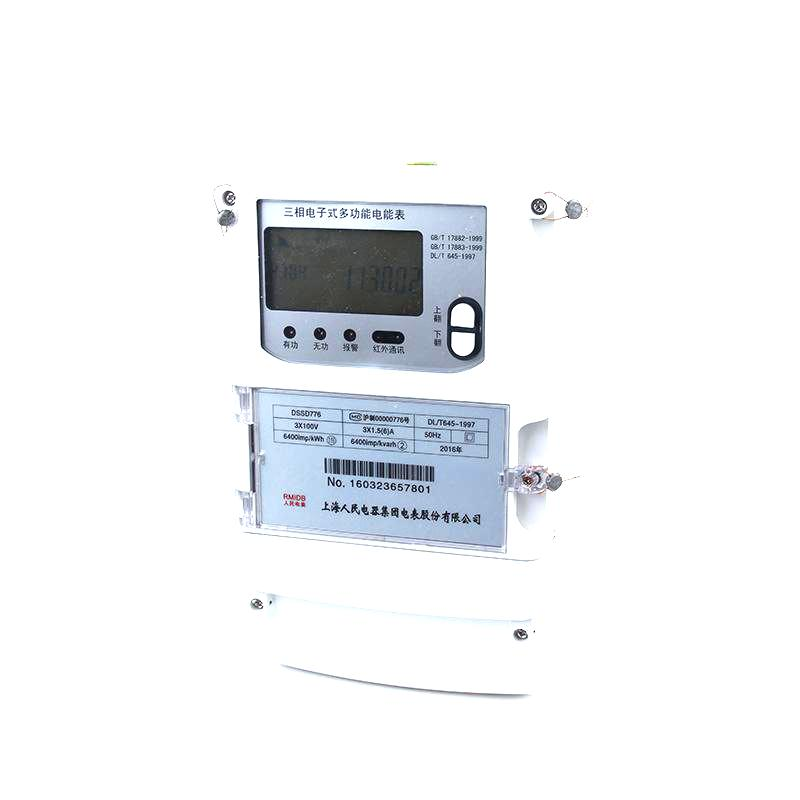digital: (211, 166, 550, 620)
